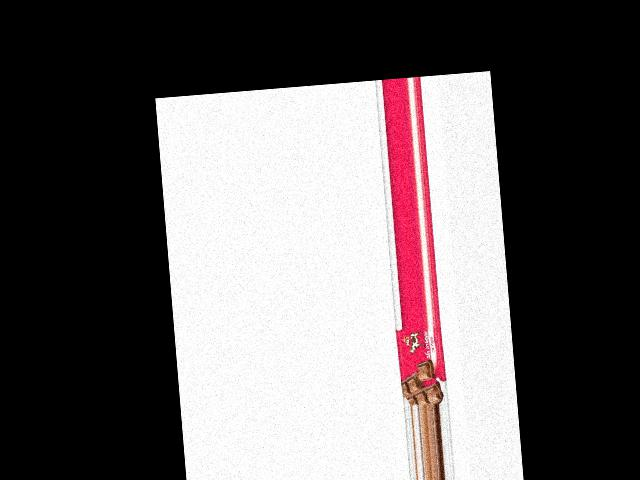chocolate: (396, 324, 447, 405)
